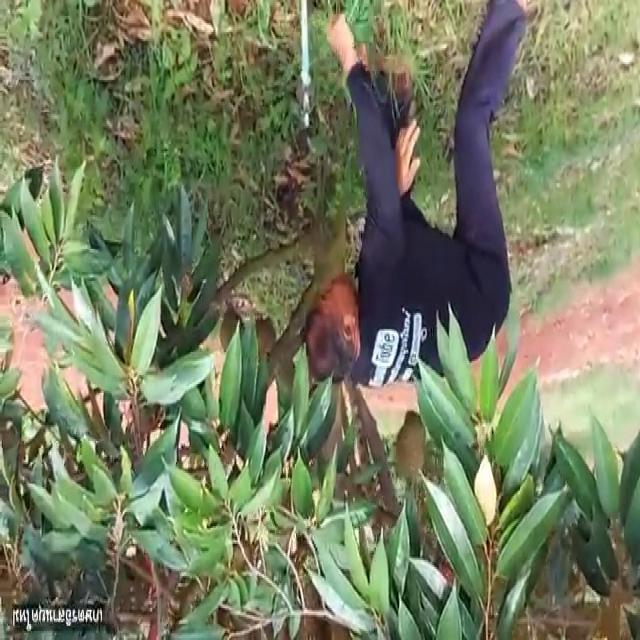durian: (392, 406, 430, 486)
